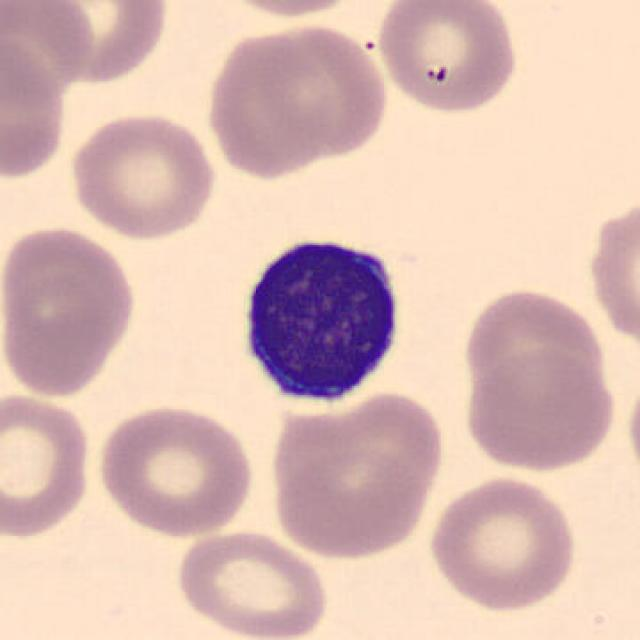Lymphocyte: (226, 224, 414, 414)
RBC: (265, 386, 450, 563), (0, 220, 140, 400), (90, 400, 258, 540), (423, 472, 581, 614), (202, 25, 338, 182), (251, 19, 393, 168), (64, 108, 219, 242), (458, 346, 620, 474), (457, 282, 610, 416), (172, 525, 330, 640), (371, 0, 522, 116), (0, 388, 94, 541), (19, 0, 172, 86), (0, 32, 71, 183), (0, 0, 98, 106), (583, 191, 640, 356), (212, 0, 374, 21), (624, 361, 640, 492)
